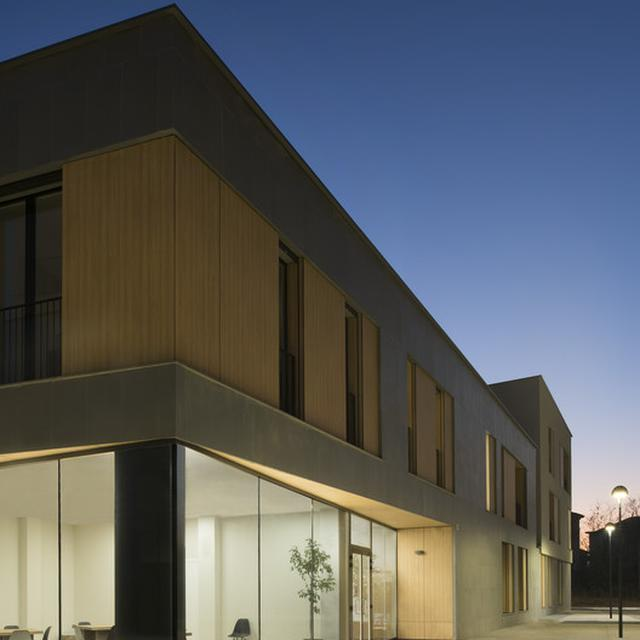building: (0, 0, 581, 626)
